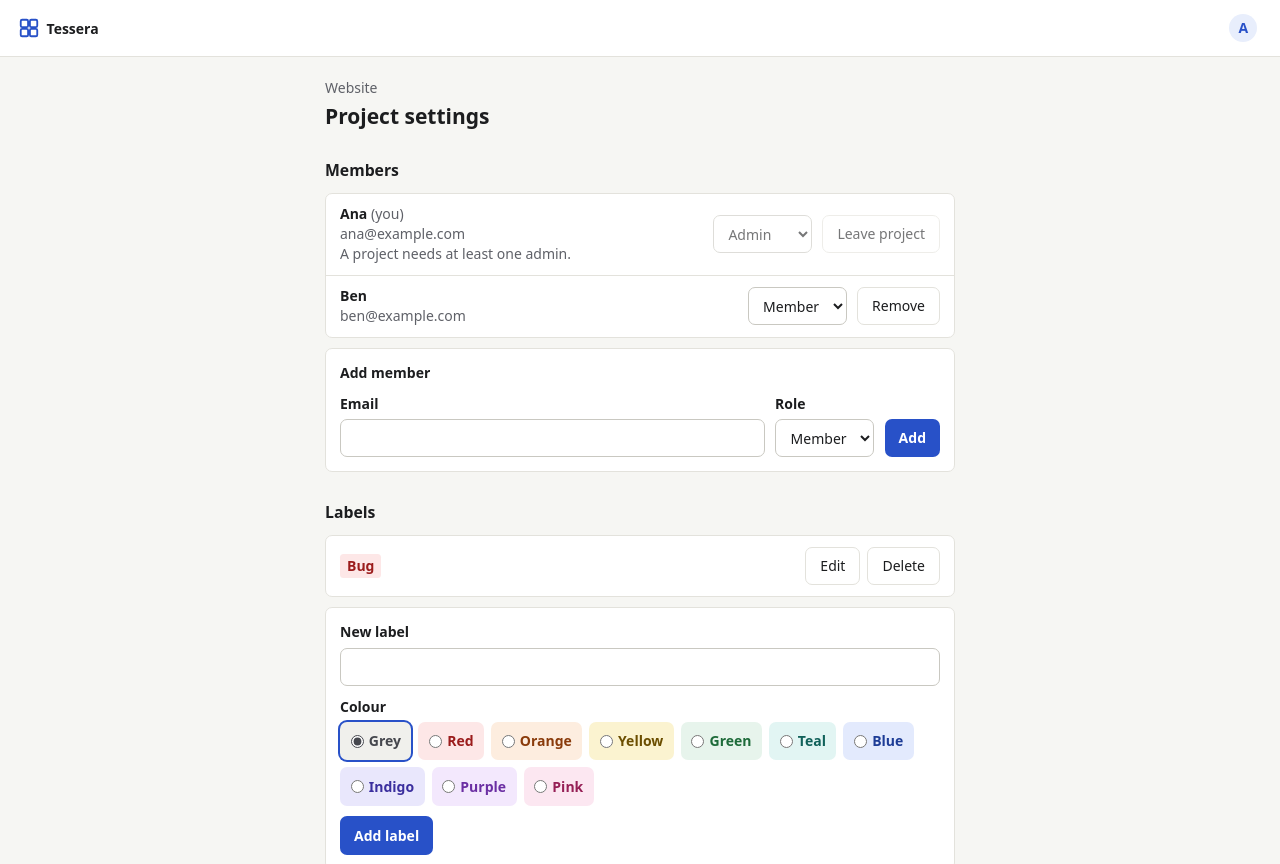
Test: Project settings: labels › shows why a label could not be added
The image size is (1280, 864).
Type "bug" into the field labelled "New label".
click(640, 667); type("bug")  # box [340, 648, 940, 686]
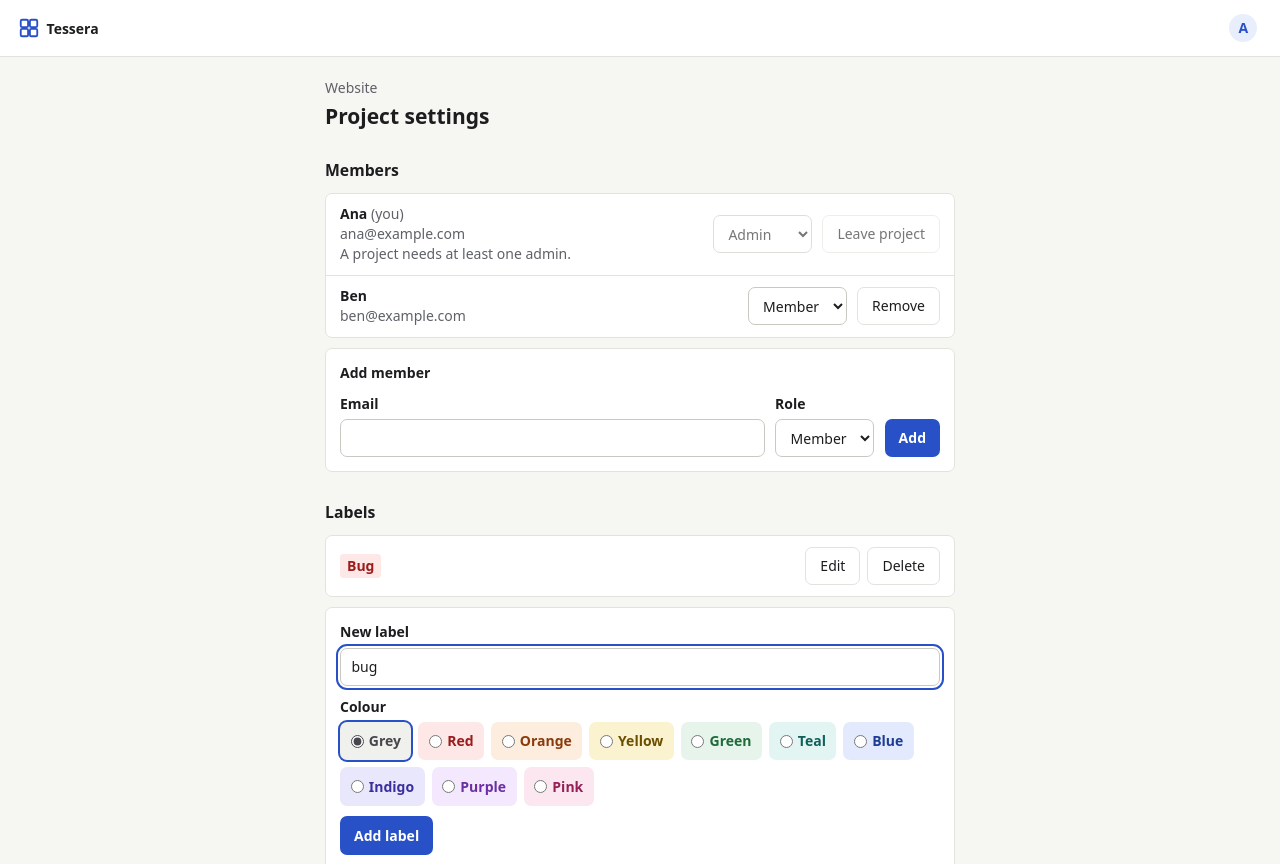
Click the button "Add label".
click(387, 836)  # box [340, 816, 433, 855]
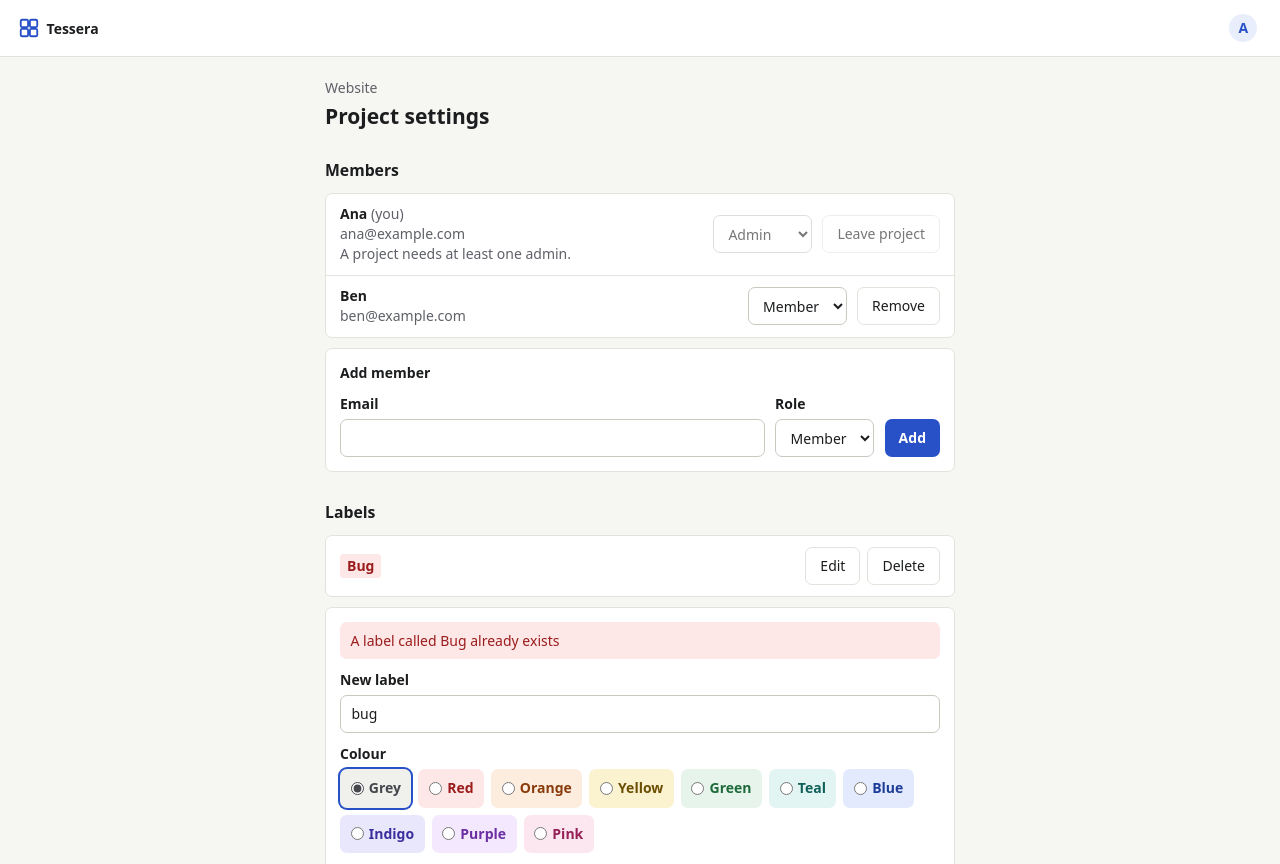
expect the message reads "A label called Bug already exists": met, box [350, 631, 560, 650]
